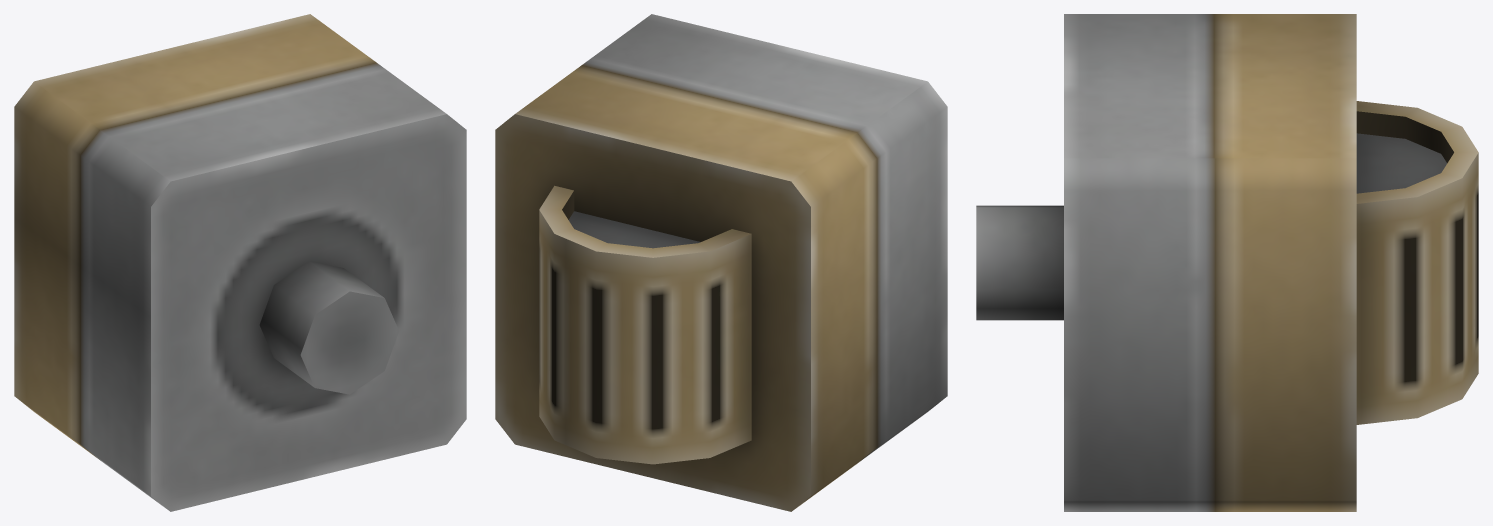
Rendered from Ara_SensorAccelerometer_1.obj.
The picture shows the model from 3 angles, left to right: view 1: azimuth 30°, elevation 25°; view 2: azimuth 150°, elevation 25°; view 3: azimuth 270°, elevation 25°; orthographic projection. The views are drawn at different scales.
Visible parts, largest first — view 1: Ara_SensorAccelerometer_1; view 2: Ara_SensorAccelerometer_1; view 3: Ara_SensorAccelerometer_1.
Boxes of the visible parts, bbox=[...] form: Ara_SensorAccelerometer_1: bbox=[14, 14, 466, 511]; Ara_SensorAccelerometer_1: bbox=[495, 14, 947, 511]; Ara_SensorAccelerometer_1: bbox=[976, 14, 1478, 511].
Size of the model in its own units: 0.2 by 0.2 by 0.2575.
